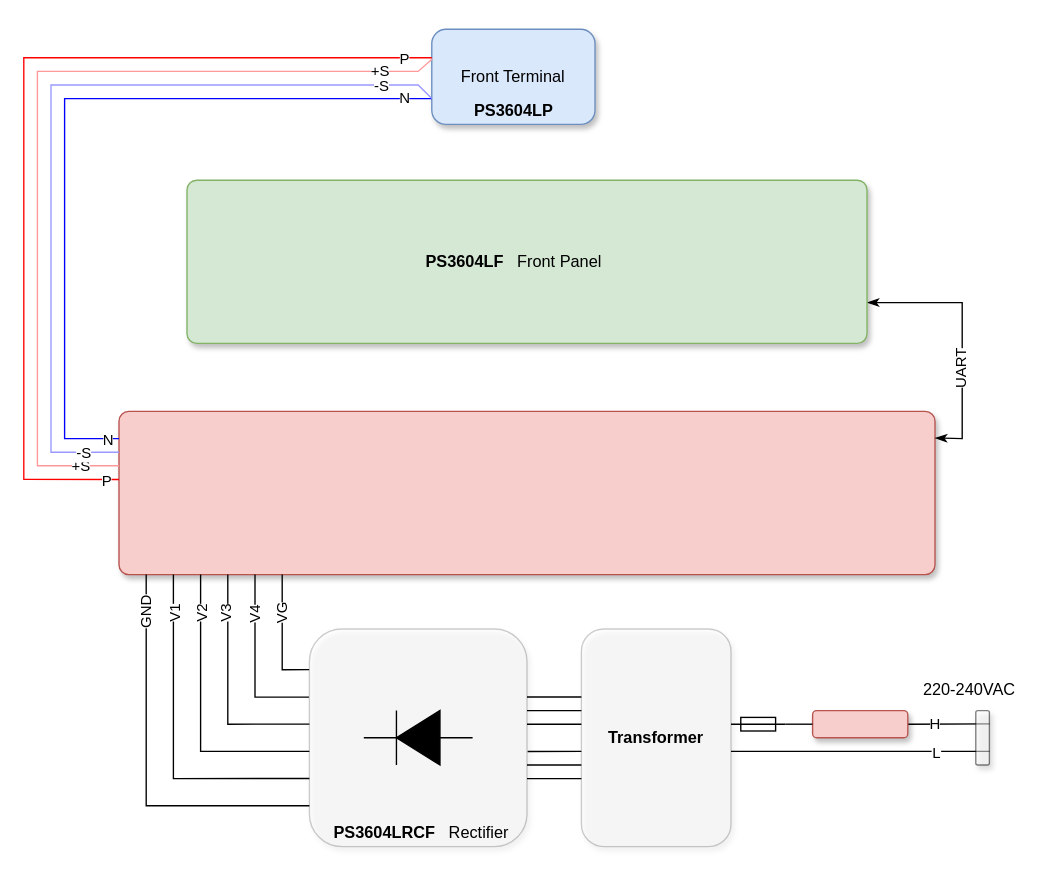
This 1054x880 diagram has some shape labels left out. The shapes that lost their labels are listed below. From the top down, each one's centre as x and y in pixels, then its label:
point 527,494: PS3604LR Regulator
point 861,725: Line Switch
